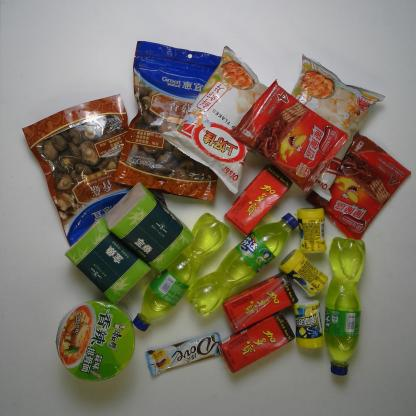Chocolate: (145, 331, 222, 378)
Dessert: (227, 76, 348, 192), (304, 129, 412, 242)
Dried Food: (20, 93, 168, 247), (110, 40, 222, 204)
Drink: (188, 211, 300, 320), (131, 212, 232, 332), (322, 235, 366, 378), (223, 162, 294, 238), (216, 310, 297, 374), (221, 272, 300, 334)
Gum: (279, 249, 330, 298), (291, 299, 325, 350), (296, 206, 327, 254)
Instant Noodles: (55, 297, 135, 384)
Puffed Food: (160, 46, 270, 196), (287, 53, 386, 204)
Tissue: (104, 180, 194, 274), (63, 214, 151, 305)
